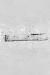N37: (5, 1, 45, 75)
